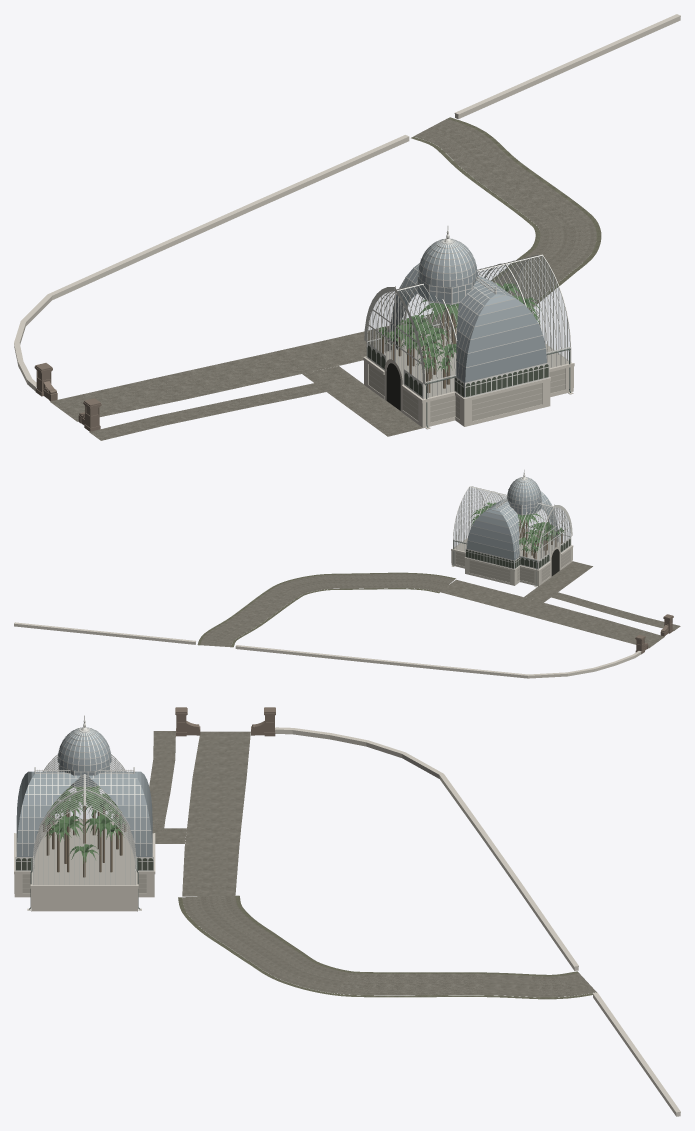
File: pullman_glasshouse_1800_calumet_pavilion__as_standing_1904.glb
The picture shows the model from 3 angles, top to bottom: view 1: azimuth 30°, elevation 25°; view 2: azimuth 150°, elevation 25°; view 3: azimuth 270°, elevation 25°; orthographic projection. The views are drawn at different scales.
Visible parts, largest first — view 1: pullman_glasshouse_1800_calumet_pavilion__as_standing_1904; view 2: pullman_glasshouse_1800_calumet_pavilion__as_standing_1904; view 3: pullman_glasshouse_1800_calumet_pavilion__as_standing_1904.
Part boxes in pixels (x1=…): pullman_glasshouse_1800_calumet_pavilion__as_standing_1904: x1=14, y1=14, x2=680, y2=440; pullman_glasshouse_1800_calumet_pavilion__as_standing_1904: x1=14, y1=469, x2=680, y2=678; pullman_glasshouse_1800_calumet_pavilion__as_standing_1904: x1=14, y1=707, x2=680, y2=1116.
Size of the model in its own units: 74.15 by 13.75 by 54.2.
15 materials, 2 textured.
